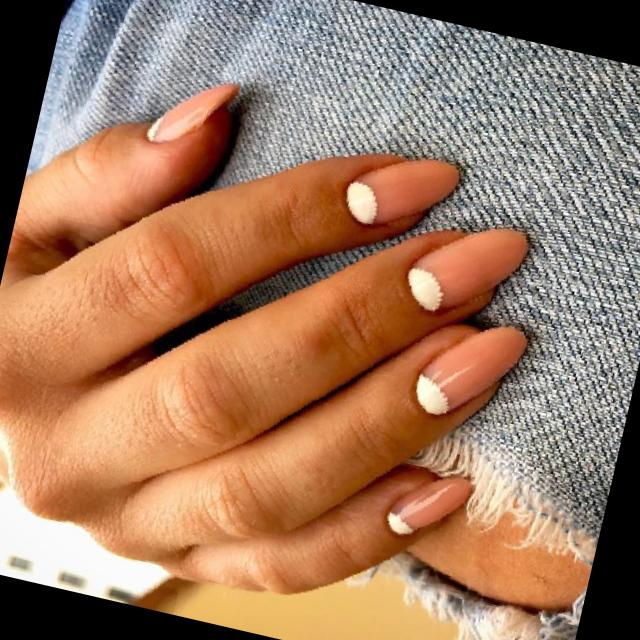Nail: (407, 228, 527, 311), (416, 326, 525, 414), (346, 159, 458, 224), (147, 82, 238, 141), (387, 476, 471, 533)
